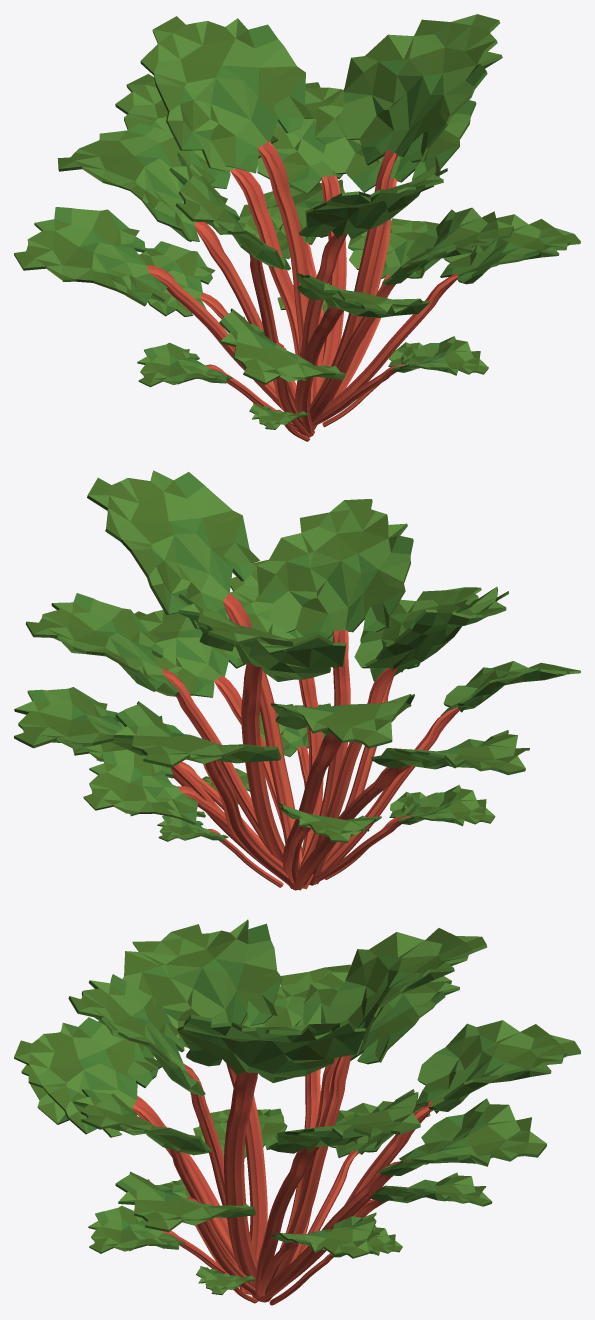
File: rhubarb.fbx
The picture shows the model from 3 angles, top to bottom: view 1: azimuth 30°, elevation 25°; view 2: azimuth 150°, elevation 25°; view 3: azimuth 270°, elevation 25°; orthographic projection.
Parts seen in each view (by area): view 1: gałąź.019; view 2: gałąź.019; view 3: gałąź.019.
Part boxes in pixels (x1,y1,x2,y2): gałąź.019: (14,14,580,441); gałąź.019: (14,470,580,890); gałąź.019: (14,919,580,1305).
Size of the model in its own units: 348 by 252 by 353.
